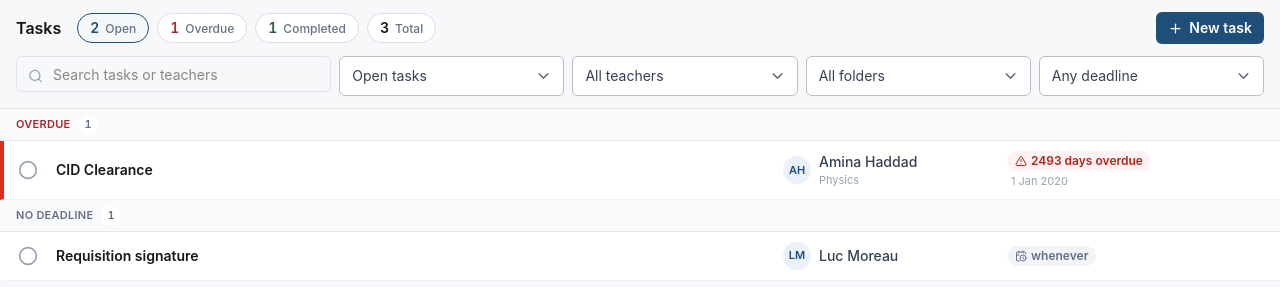
Scenario: TasksOverview › defaults to open work and can switch to completed
Expected: the text "CID Clearance" is shown, [56,161,153,178]
Expected: the text "ID Issuance" is not shown
Click the button "1 Completed" at point(307, 28), box [255,13,359,43]
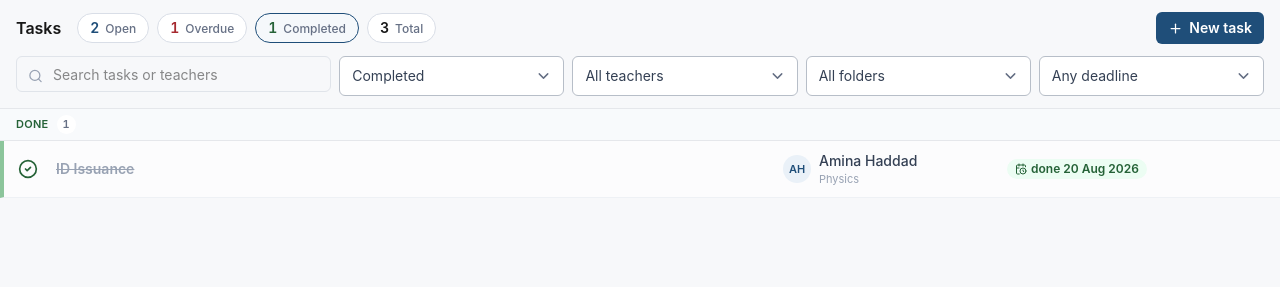
Expected: the text "ID Issuance" is shown, [56,160,134,177]
Expected: the text "CID Clearance" is gone
